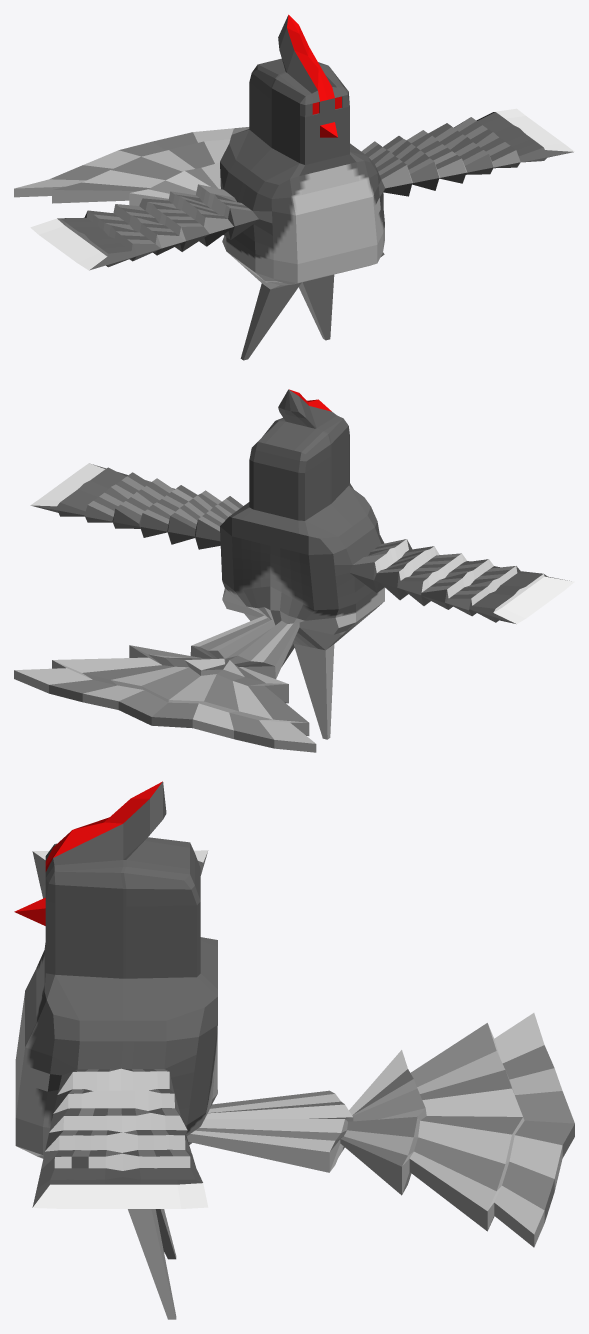
File: phoenix.fbx
3 views of the same model, one above another, from view 1: azimuth 30°, elevation 25°; view 2: azimuth 150°, elevation 25°; view 3: azimuth 270°, elevation 25° (orthographic). The views are drawn at different scales.
Visible parts, largest first — view 1: Cube; view 2: Cube; view 3: Cube.
Boxes of the visible parts, x1=… form: Cube: x1=14, y1=14, x2=574, y2=360; Cube: x1=14, y1=389, x2=574, y2=752; Cube: x1=14, y1=781, x2=574, y2=1319.
Bounding box in the file's own units: 401 × 265 × 266.
